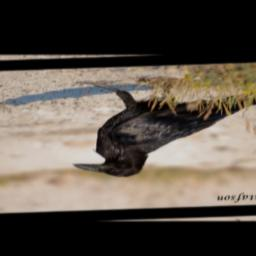Crow: (64, 73, 256, 179)
